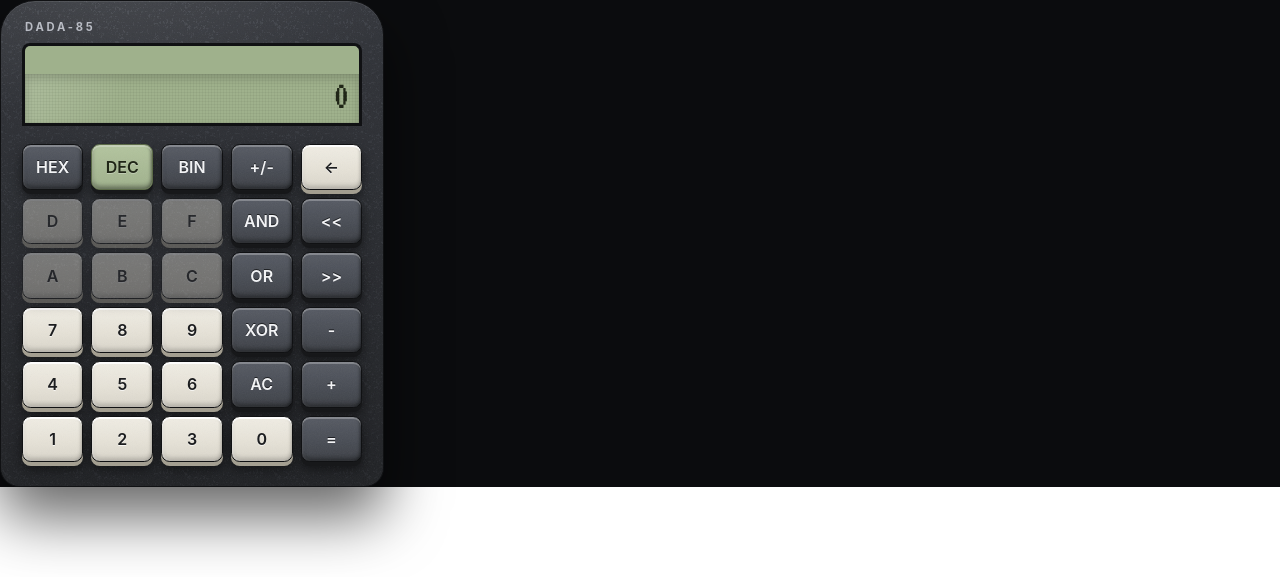
Test: ProgrammerCalculator › base-dependent keys › disables 2-9 and A-F in binary mode
Click the button "BIN" at (192, 167), box [161, 144, 223, 190]
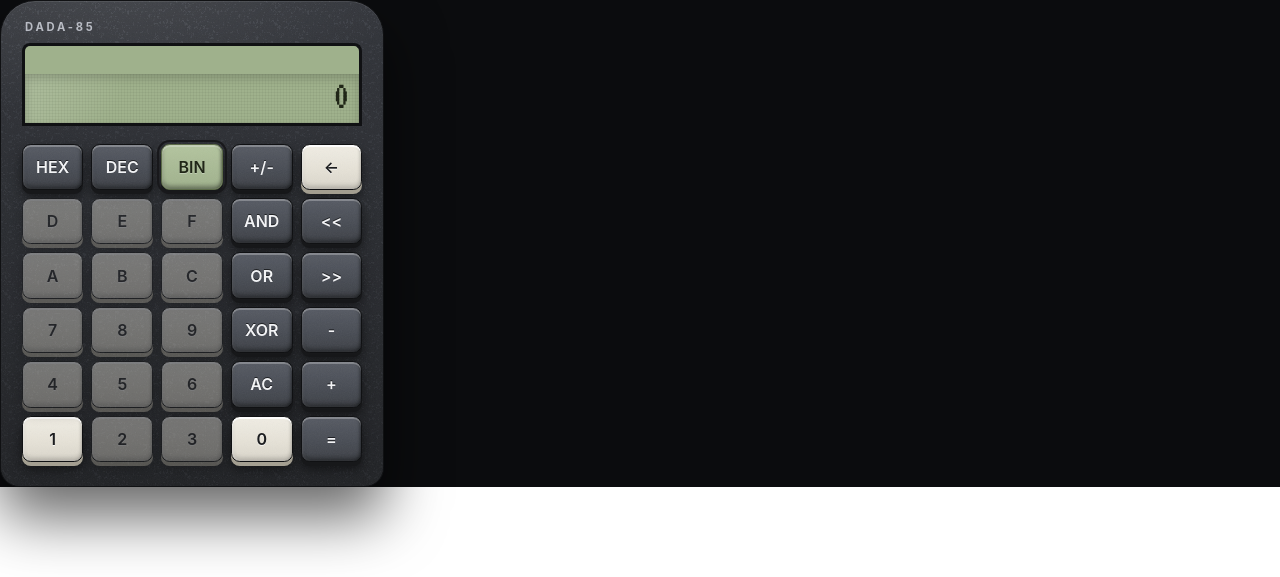
Expected: the button "A" is disabled, [22, 252, 84, 299]
Now the button "9" is disabled, box [161, 307, 223, 353]
